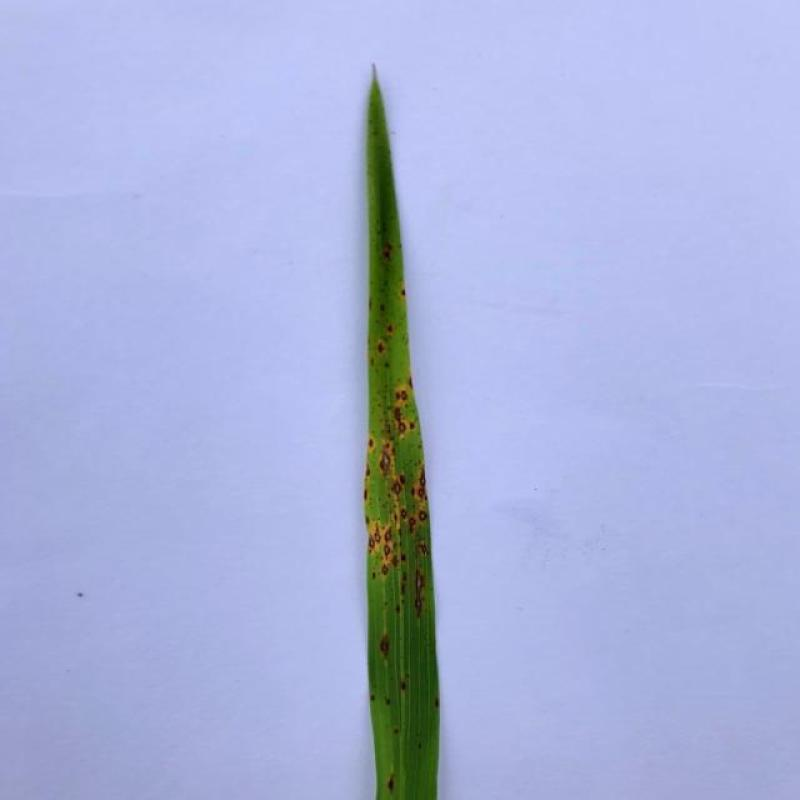Leaf_Blast: (410, 569, 428, 621), (378, 449, 397, 474), (389, 480, 406, 501), (379, 526, 391, 542)
